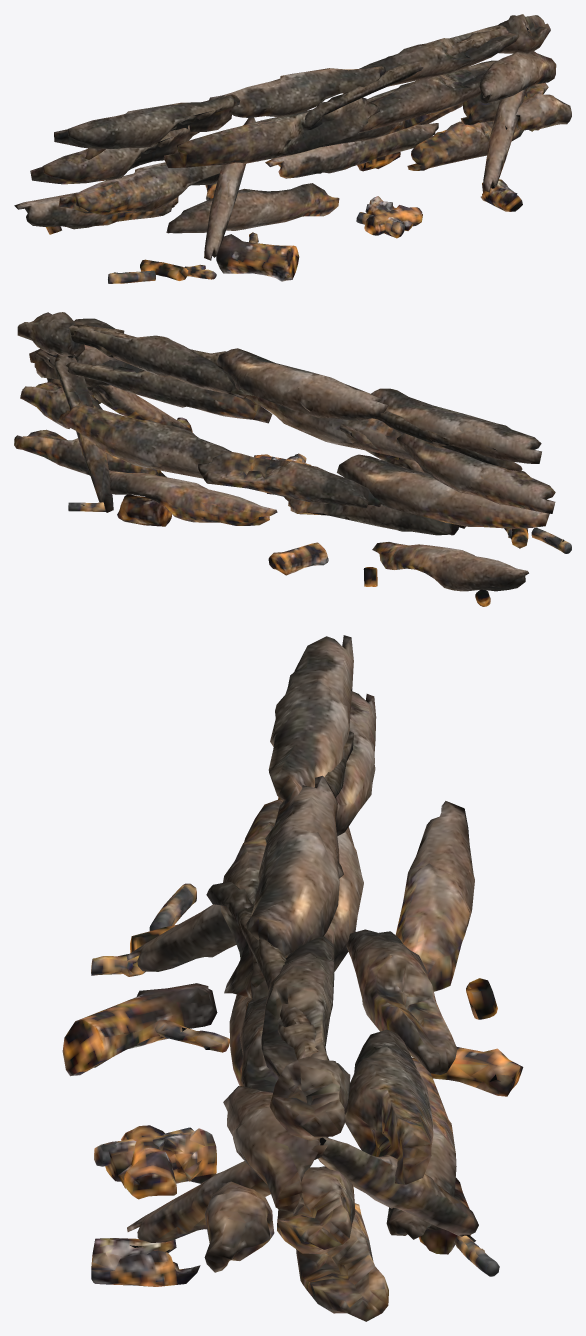
File: foguera_P1_santjoan.glb
The picture shows the model from 3 angles, top to bottom: view 1: azimuth 30°, elevation 25°; view 2: azimuth 150°, elevation 25°; view 3: azimuth 270°, elevation 25°; orthographic projection. The views are drawn at different scales.
Parts seen in each view (by area): view 1: foguera_P1_santjoan; view 2: foguera_P1_santjoan; view 3: foguera_P1_santjoan.
Part boxes in pixels (x1=…): foguera_P1_santjoan: x1=14, y1=14, x2=571, y2=283; foguera_P1_santjoan: x1=14, y1=312, x2=571, y2=606; foguera_P1_santjoan: x1=62, y1=635, x2=523, y2=1321.
Size of the model in its own units: 2.86 by 0.8159 by 1.13.
Materials: 1 (1 with a texture image).
